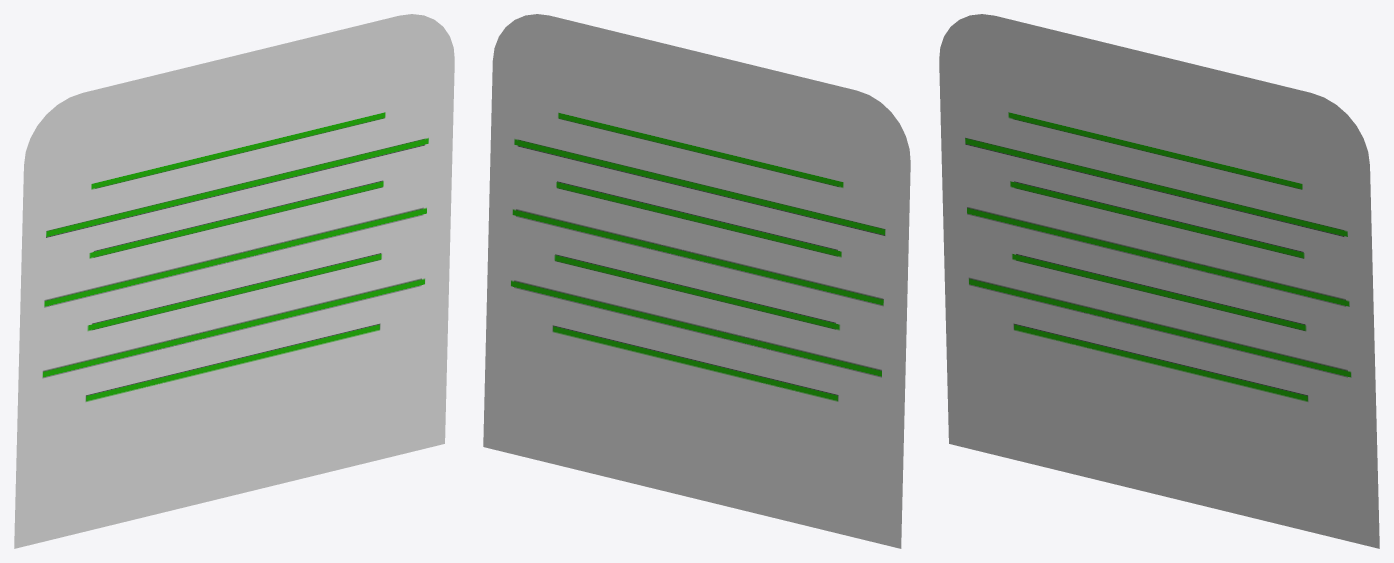
The model's file is visor.obj.
3 renders of one model, left to right at view 1: azimuth 30°, elevation 25°; view 2: azimuth 150°, elevation 25°; view 3: azimuth 330°, elevation 25°, orthographic. The views are drawn at different scales.
Parts seen in each view (by area): view 1: Plane.002_Plane; view 2: Plane.002_Plane; view 3: Plane.002_Plane.
Part boxes in pixels (bbox=[...]): Plane.002_Plane: bbox=[14, 14, 454, 548]; Plane.002_Plane: bbox=[483, 14, 910, 548]; Plane.002_Plane: bbox=[939, 14, 1379, 548].
Size of the model in its own units: 0.1199 by 0.1198 by 0.00545.
1 material, 1 textured.
